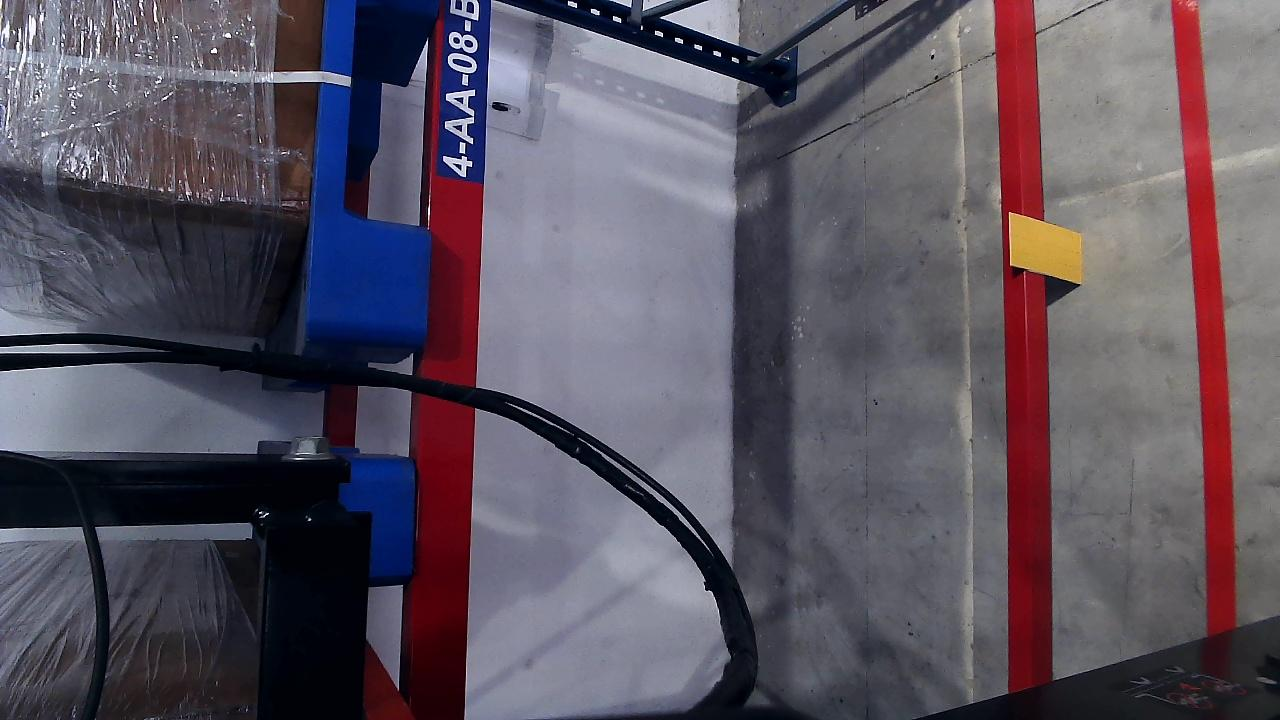h_rack: (994, 2, 1050, 689), (437, 0, 483, 719)
orange_strip: (1008, 210, 1088, 281)
red_line: (1170, 1, 1240, 599)
small_pallet: (298, 1, 442, 335)
